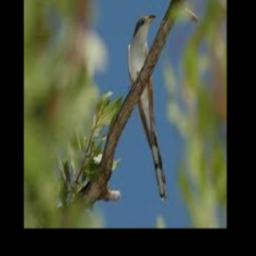Cuckoo: (128, 15, 166, 200)
